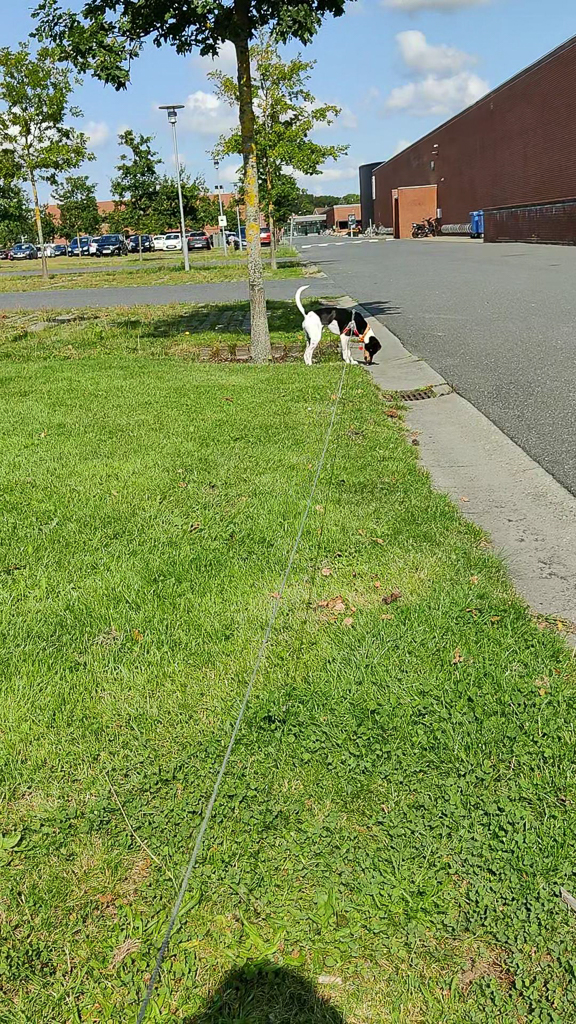Dog: (288, 276, 387, 371)
